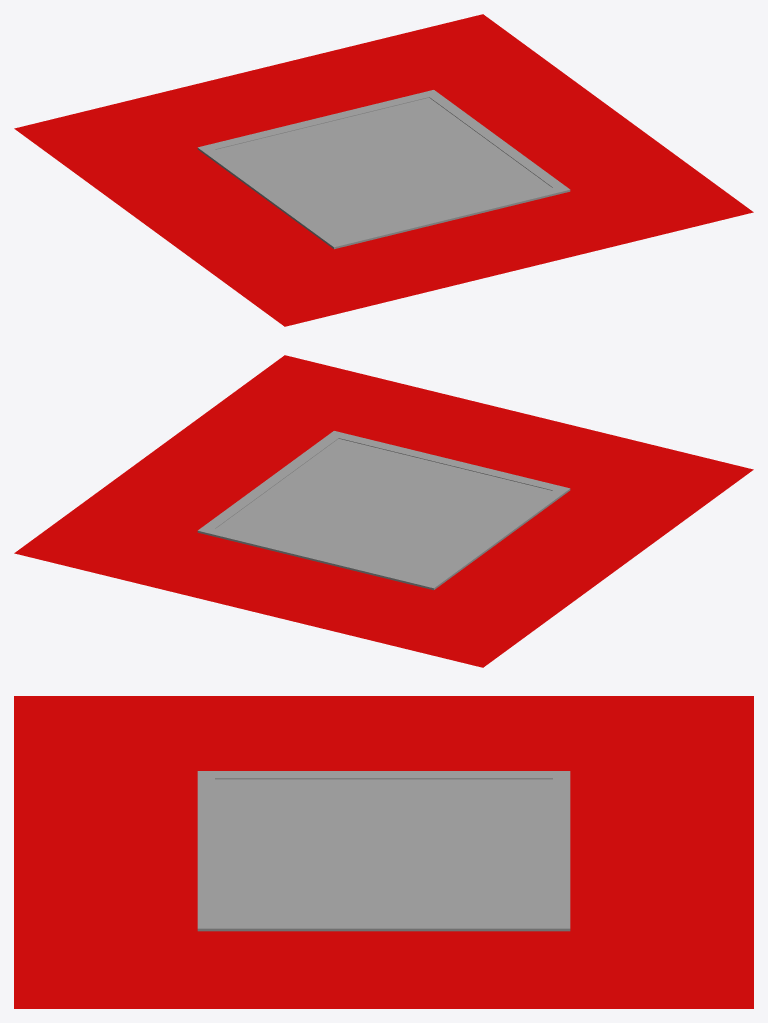
File: TrapDoor_low.fbx
3 renders of one model, top to bottom at view 1: azimuth 30°, elevation 25°; view 2: azimuth 150°, elevation 25°; view 3: azimuth 270°, elevation 25°, orthographic. The views are drawn at different scales.
Visible parts, largest first — view 1: TrapDoor_low; view 2: TrapDoor_low; view 3: TrapDoor_low.
Part boxes in pixels (x1,y1,x2,y2): TrapDoor_low: [14, 14, 753, 326]; TrapDoor_low: [14, 355, 753, 667]; TrapDoor_low: [14, 696, 753, 1008].
Size of the model in its own units: 4 by 0.016 by 4.
